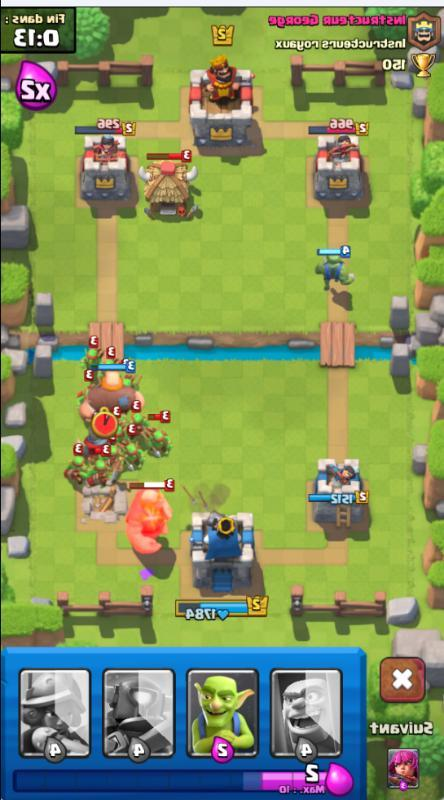enemy_giant: (120, 482, 178, 561)
enemy_goblin_hut: (137, 149, 203, 222)
enemy_spear_goblins: (141, 408, 171, 459), (117, 424, 147, 475), (87, 442, 116, 493), (63, 442, 92, 492), (80, 337, 104, 377)
player_caged_goblin: (309, 241, 359, 295)
player_giant: (76, 364, 147, 423)
